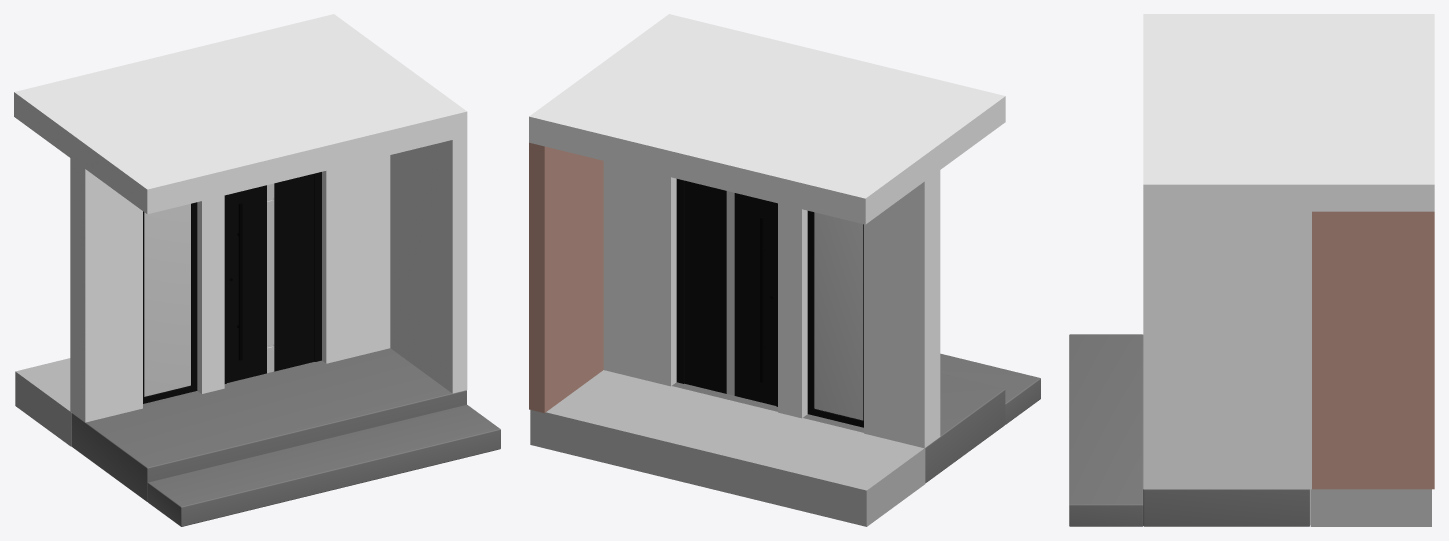
The model's file is perete_impartit.fbx.
3 views of the same model, side by side, from view 1: azimuth 30°, elevation 25°; view 2: azimuth 150°, elevation 25°; view 3: azimuth 270°, elevation 25° (orthographic). The views are drawn at different scales.
Parts seen in each view (by area): view 1: element 1, Box2131643777, Plane4284, element 3, Plane4285, element 2, gea,003, Foaie usa006, Foaie usa 008, Plane4287, Box2131643780, Box2131643775 (+3 smaller); view 2: Plane4287, Box2131643777, element 1, element 3, Box2131643778, element 2, gea,003, Foaie usa006, Foaie usa 008, Plane4284, Plane4285, Box2131643780 (+3 smaller); view 3: element 1, Box2131643778, element 2, Plane4285, element 3, Box2131643777, Plane4284, Plane4287.
Boxes of the visible parts, x1=… form: element 1: x1=255, y1=14, x2=467, y2=393; Box2131643777: x1=14, y1=78, x2=204, y2=422; Plane4284: x1=71, y1=348, x2=466, y2=501; element 3: x1=72, y1=58, x2=286, y2=393; Plane4285: x1=147, y1=404, x2=500, y2=526; element 2: x1=154, y1=33, x2=388, y2=180; gea,003: x1=144, y1=204, x2=190, y2=396; Foaie usa006: x1=274, y1=174, x2=314, y2=371; Foaie usa 008: x1=227, y1=185, x2=266, y2=382; Plane4287: x1=15, y1=358, x2=71, y2=446; Box2131643780: x1=143, y1=202, x2=197, y2=403; Box2131643775: x1=314, y1=172, x2=321, y2=361; Plane4287: x1=530, y1=370, x2=925, y2=526; Box2131643777: x1=804, y1=81, x2=1005, y2=448; element 1: x1=529, y1=14, x2=751, y2=386; element 3: x1=719, y1=60, x2=944, y2=418; Box2131643778: x1=529, y1=142, x2=603, y2=413; element 2: x1=612, y1=34, x2=858, y2=188; gea,003: x1=814, y1=212, x2=863, y2=420; Foaie usa006: x1=684, y1=180, x2=726, y2=393; Foaie usa 008: x1=734, y1=193, x2=776, y2=405; Plane4284: x1=672, y1=373, x2=1005, y2=483; Plane4285: x1=940, y1=353, x2=1040, y2=424; Box2131643780: x1=807, y1=211, x2=863, y2=427; element 1: x1=1143, y1=142, x2=1434, y2=489; Box2131643778: x1=1312, y1=211, x2=1434, y2=489; element 2: x1=1143, y1=88, x2=1434, y2=142; Plane4285: x1=1069, y1=334, x2=1143, y2=526; element 3: x1=1143, y1=44, x2=1434, y2=88; Box2131643777: x1=1143, y1=14, x2=1434, y2=44; Plane4284: x1=1143, y1=489, x2=1310, y2=526; Plane4287: x1=1310, y1=489, x2=1431, y2=526.
Bounding box in the file's own units: 135 × 126 × 122.
